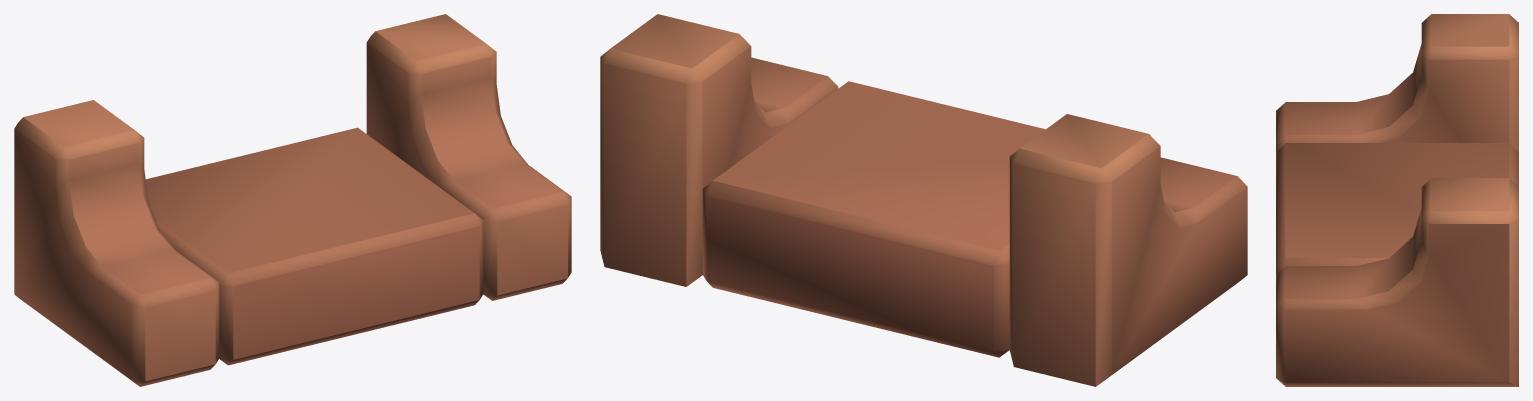
File: shelf_B_small.obj
The picture shows the model from 3 angles, left to right: view 1: azimuth 30°, elevation 25°; view 2: azimuth 150°, elevation 25°; view 3: azimuth 270°, elevation 25°; orthographic projection. The views are drawn at different scales.
Visible parts, largest first — view 1: shelf_B_small_Cube.027; view 2: shelf_B_small_Cube.027; view 3: shelf_B_small_Cube.027.
Boxes of the visible parts, box(x1,y1,x2,y2) form: shelf_B_small_Cube.027: box(14, 14, 571, 386); shelf_B_small_Cube.027: box(600, 14, 1247, 386); shelf_B_small_Cube.027: box(1276, 14, 1518, 386).
Size of the model in its own units: 1 by 0.4 by 0.5.
1 material, 1 textured.
